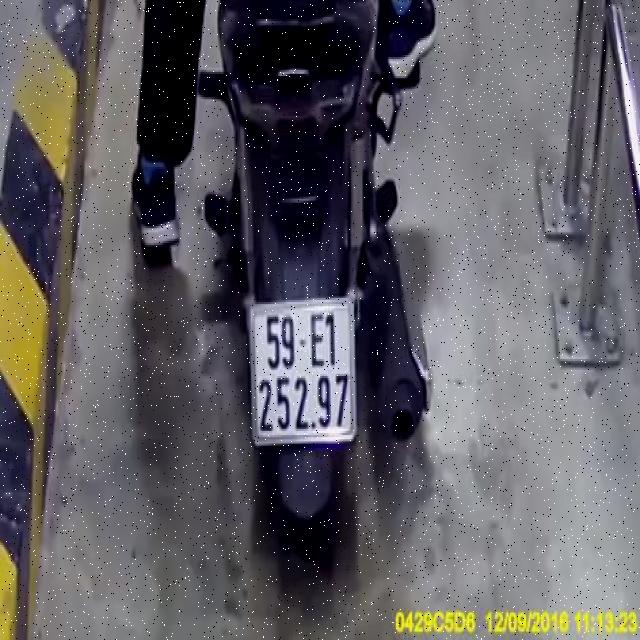1: (324, 312, 336, 368)
2: (258, 378, 276, 433), (294, 374, 310, 432)
5: (264, 313, 282, 372), (276, 374, 292, 432)
7: (335, 371, 348, 432)
9: (316, 372, 334, 429), (281, 314, 296, 373)
E: (310, 314, 328, 371)
